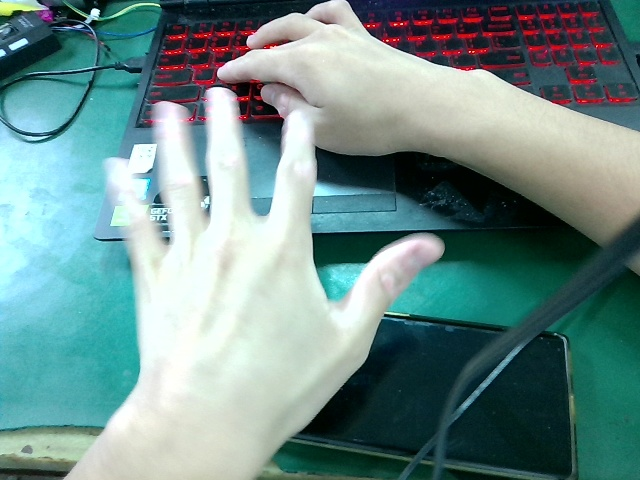paper: (97, 87, 448, 478)
